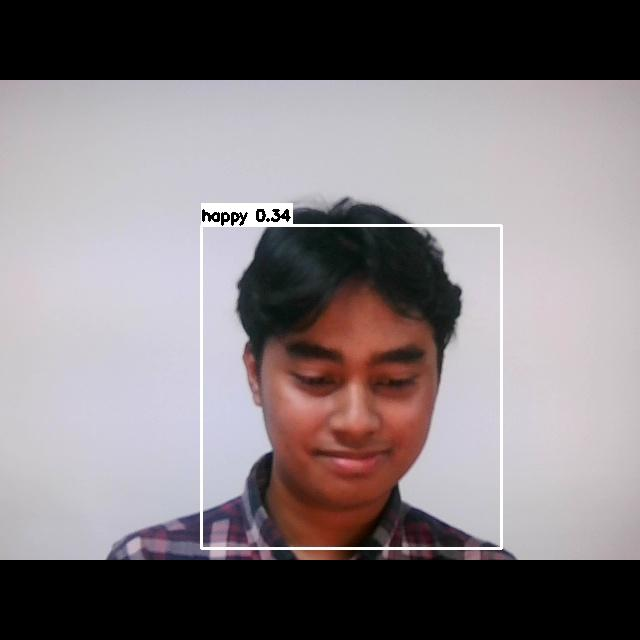Happy: (257, 306, 442, 488)
